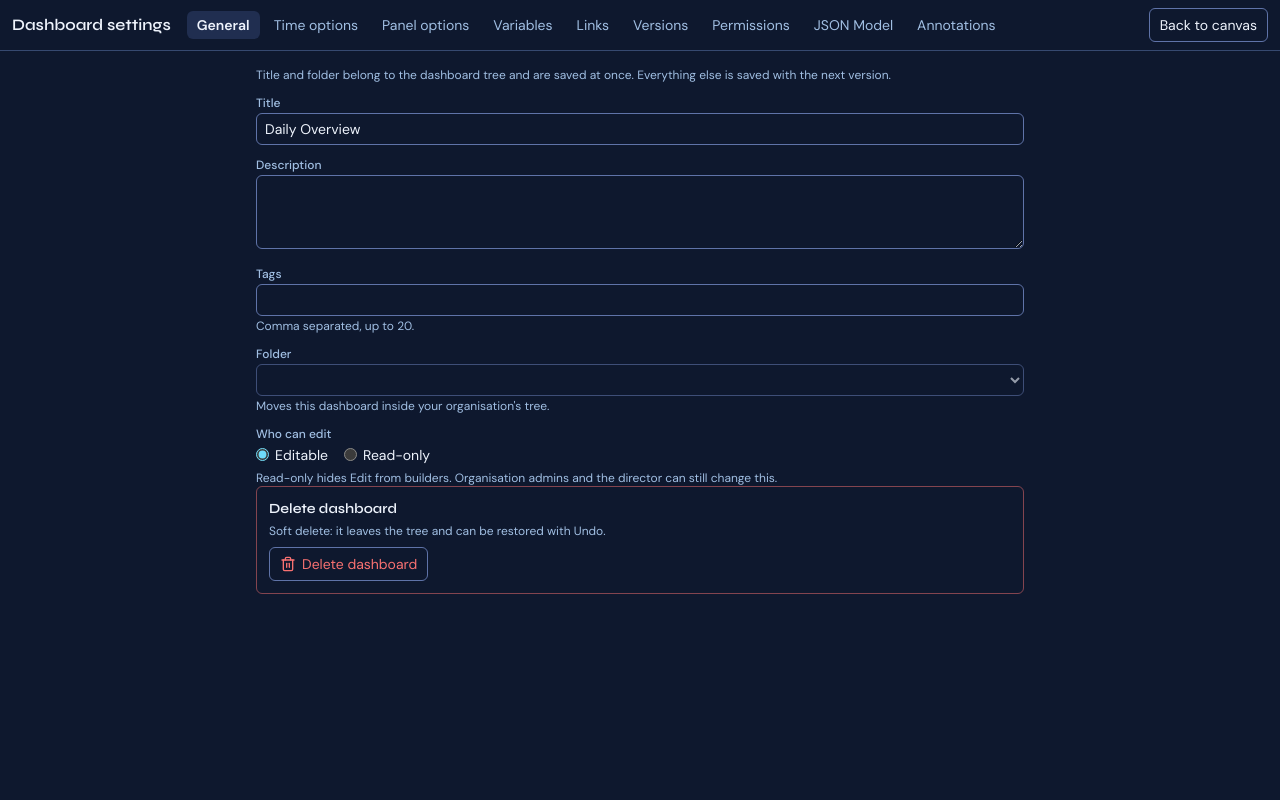
settings view (UI) › Variables: validates the draft and adds a valid one
Later steps or results of the test are not shown.
Click the tab "Variables" at point(523, 25), box [483,11,562,39]
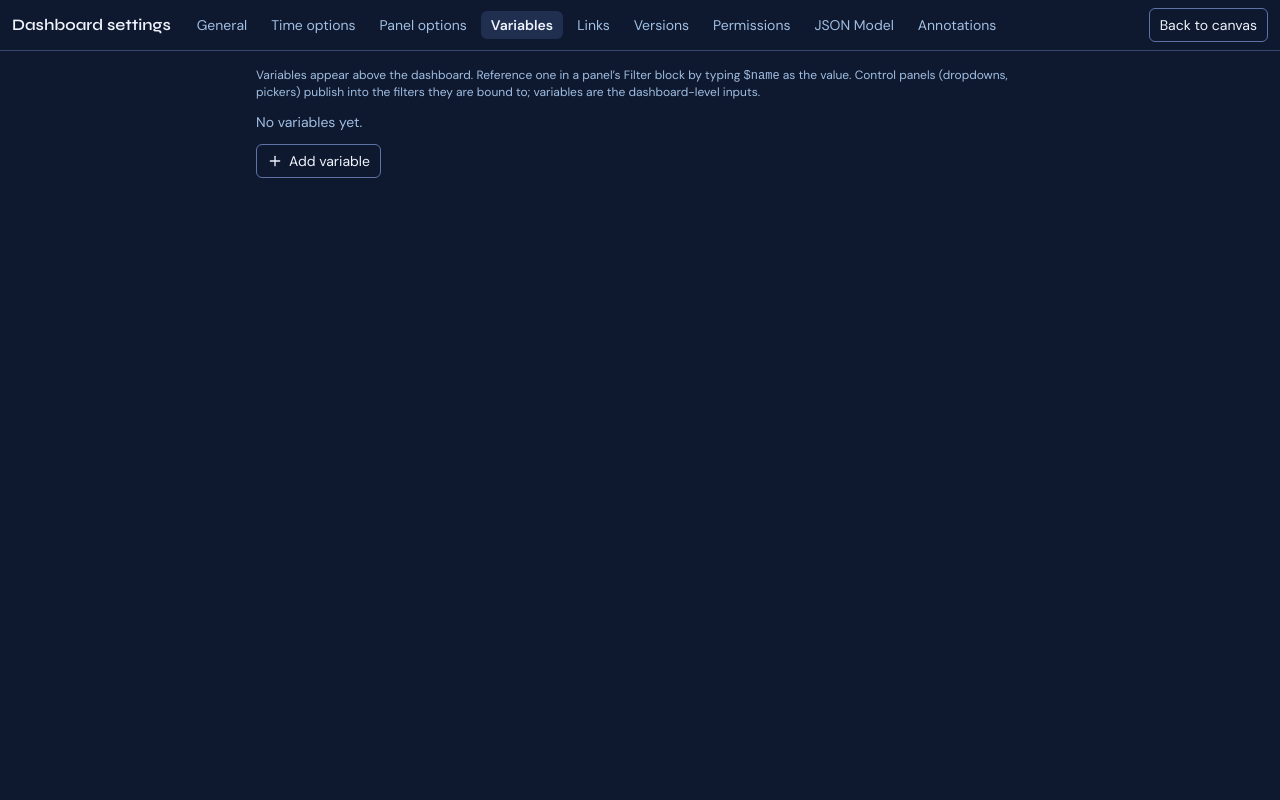
Click the button "Add variable" at point(318, 161), box [256,144,381,178]
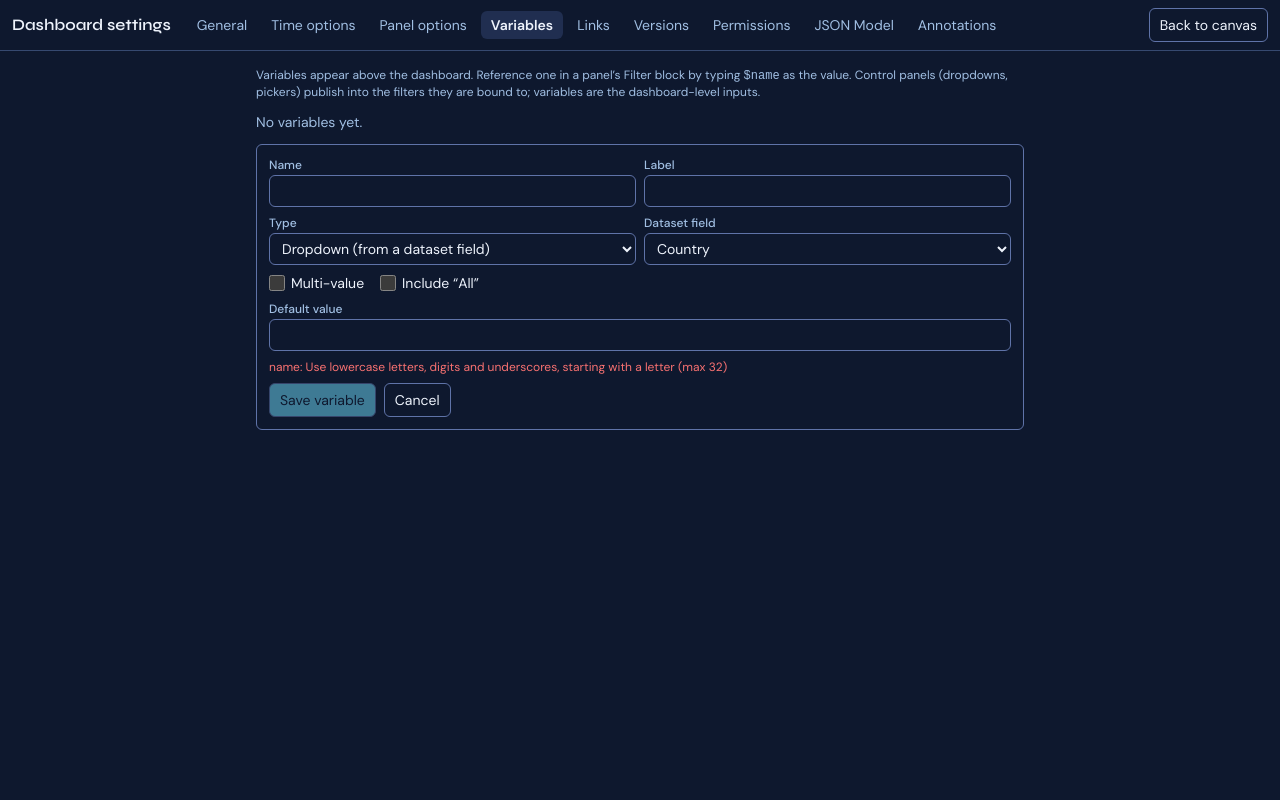
Check: the button "Save variable" is disabled, box [269,383,376,417]
Type "country" into the field named "Variable name" at point(452, 191), box [269,175,636,207]
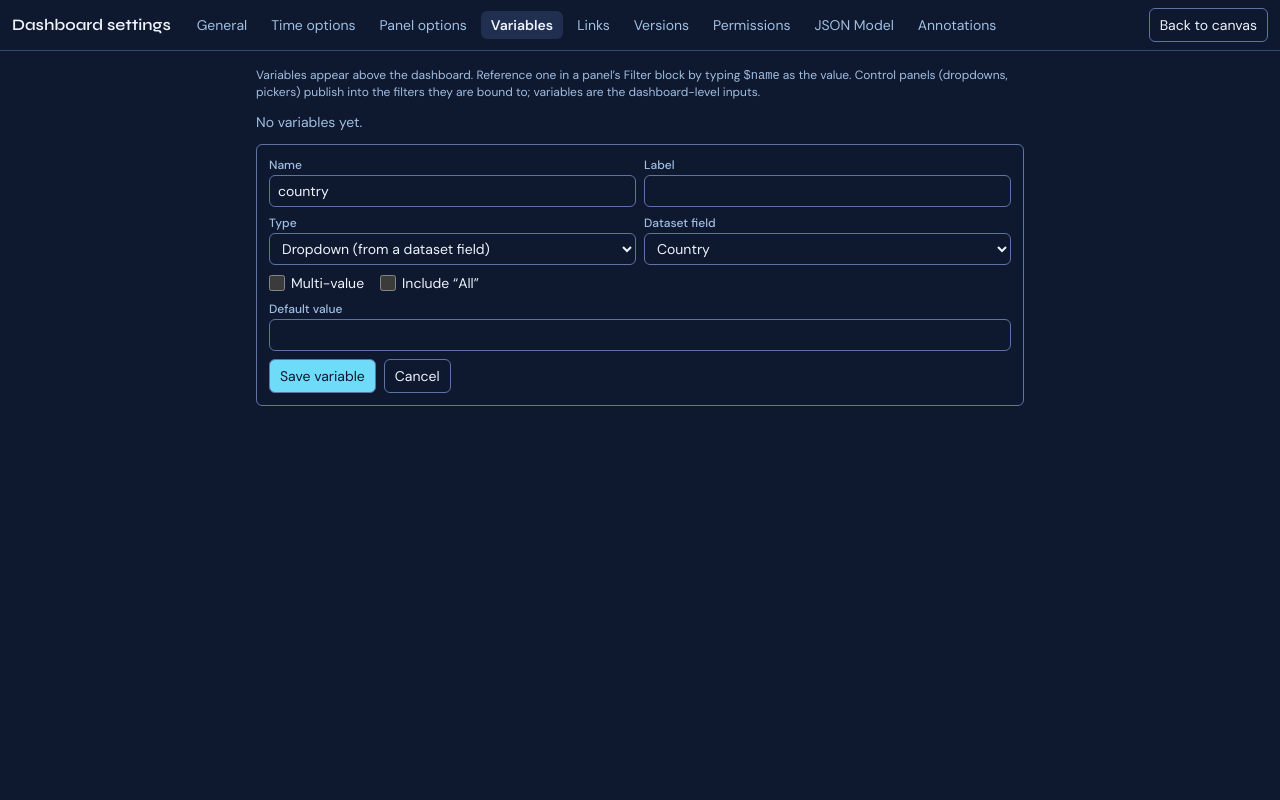
Check: the button "Save variable" is enabled, box [269,359,376,393]
